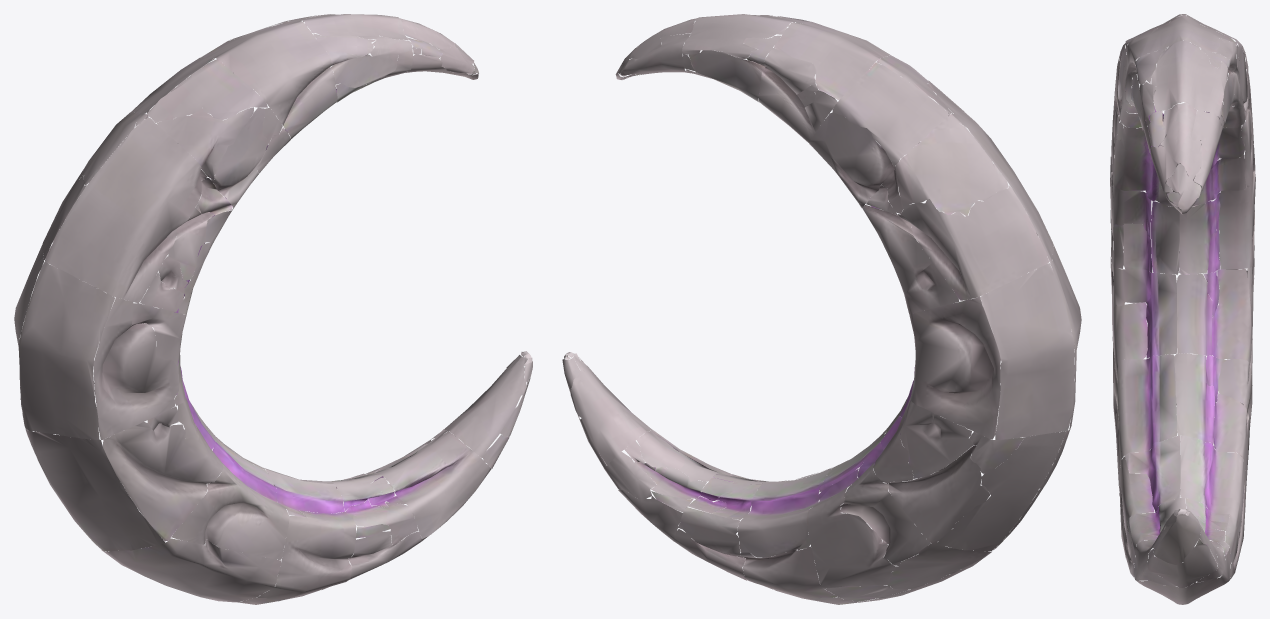
Rendered from crescent-moon.glb.
3 views of the same model, side by side, from view 1: azimuth 30°, elevation 25°; view 2: azimuth 150°, elevation 25°; view 3: azimuth 270°, elevation 25° (orthographic). The views are drawn at different scales.
Visible parts, largest first — view 1: tripo_node_d8870c68-d4db-438c-8da0-72e7943f28c1; view 2: tripo_node_d8870c68-d4db-438c-8da0-72e7943f28c1; view 3: tripo_node_d8870c68-d4db-438c-8da0-72e7943f28c1.
Boxes of the visible parts, x1=… form: tripo_node_d8870c68-d4db-438c-8da0-72e7943f28c1: x1=14, y1=14, x2=532, y2=604; tripo_node_d8870c68-d4db-438c-8da0-72e7943f28c1: x1=562, y1=14, x2=1081, y2=604; tripo_node_d8870c68-d4db-438c-8da0-72e7943f28c1: x1=1110, y1=14, x2=1255, y2=604.
Size of the model in its own units: 0.9175 by 0.9794 by 0.2388.
Materials: 1 (1 with a texture image).
